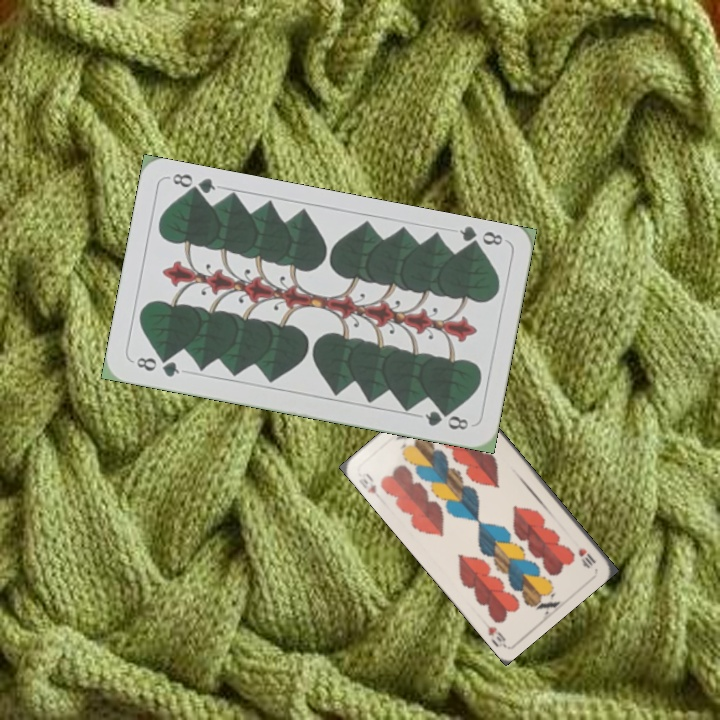G8: (455, 223, 505, 254), (132, 353, 182, 380)
H10: (574, 544, 599, 570), (355, 469, 379, 496)
